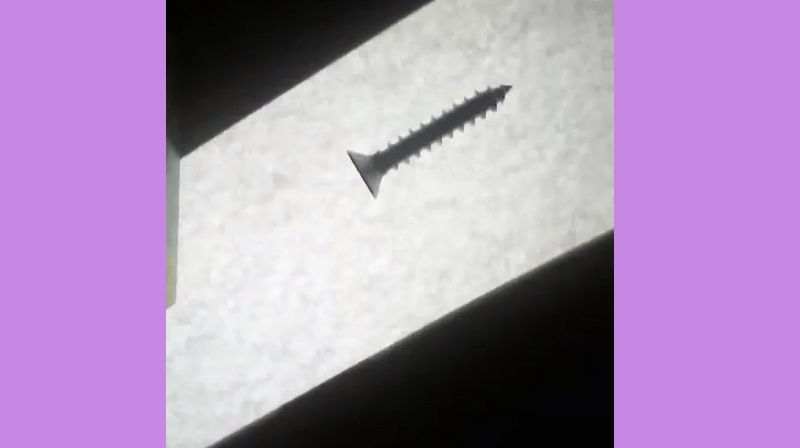S001: (342, 75, 512, 203)
